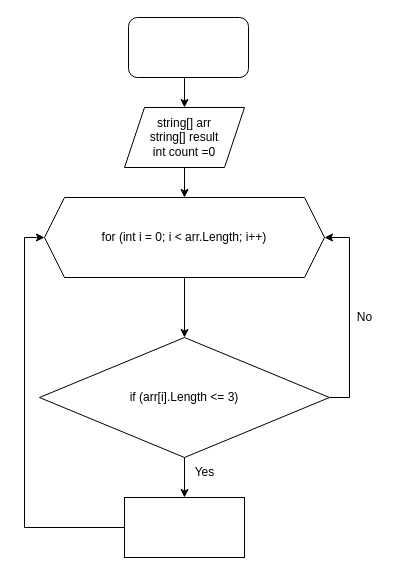
Image size: 402x575. Some labels were removed from this diagram. The centre of each missing label's shape, as x and y in pixels:
"result[count] = arr[i]; count++;" belongs at [184,527].
"Searcher" belongs at [188,47].
